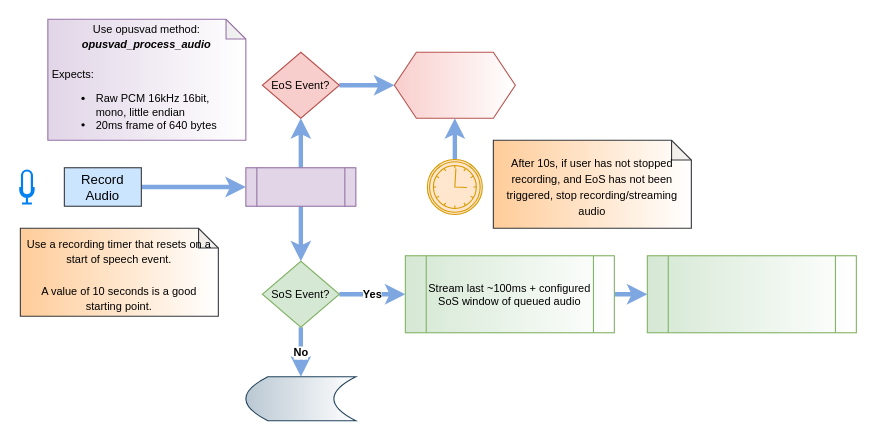
This 876x440 diagram has some shape labels left out. Here are the shapes that lost their labels. From the top down, the centre of each, then its label:
At [454,84]: "Stop Streaming Audio to Recognizer Service".
At [300,186]: "Process Audio".
At [751,294]: "Continue streaming audio as it's recorded in real-time".
At [300,398]: "Queue Audio".
